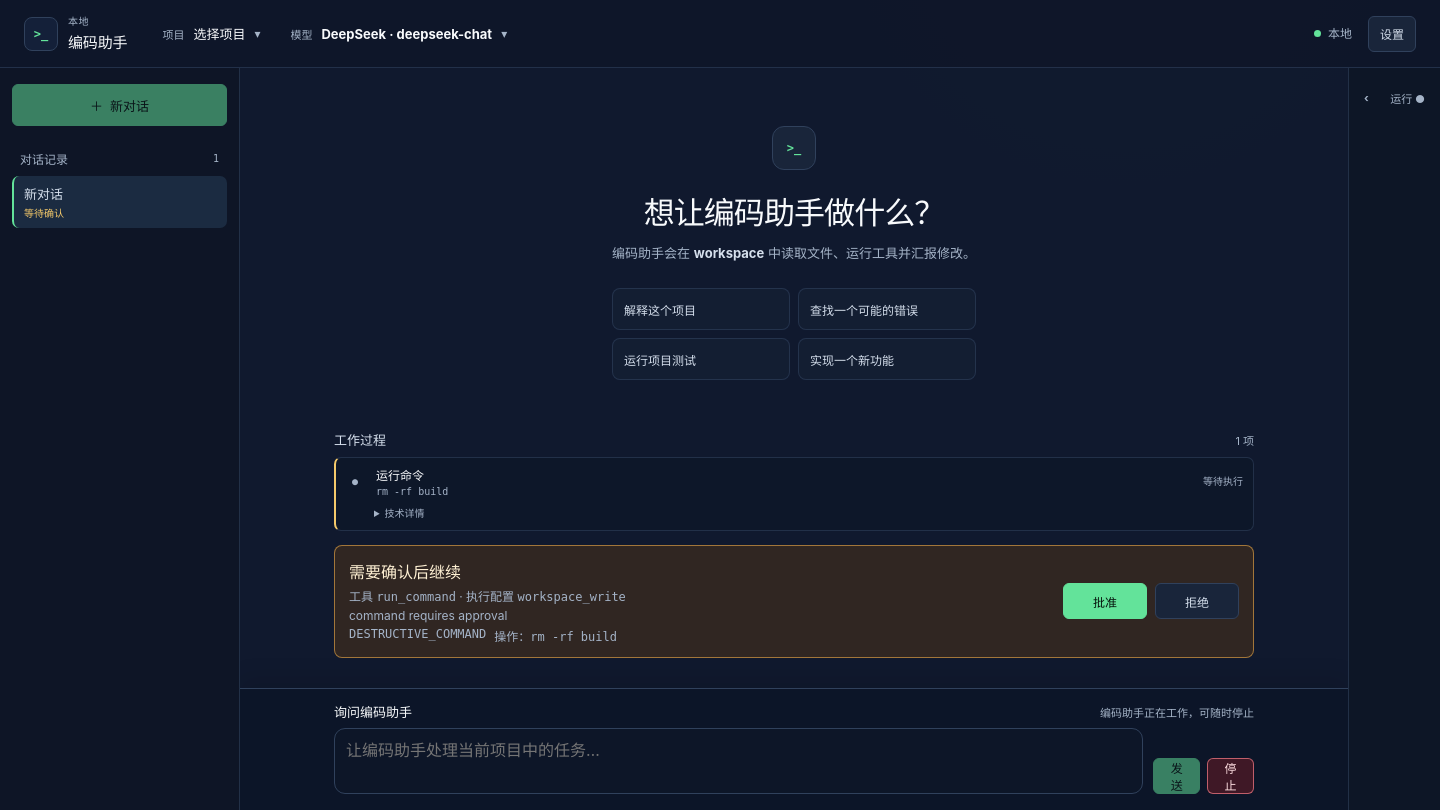
Test: allows retry when failed resolution recovery still shows the same approval
(page scrolled)
Step 1. Click the button "批准" → (1105, 601), box left=1063, top=583, right=1147, bottom=619
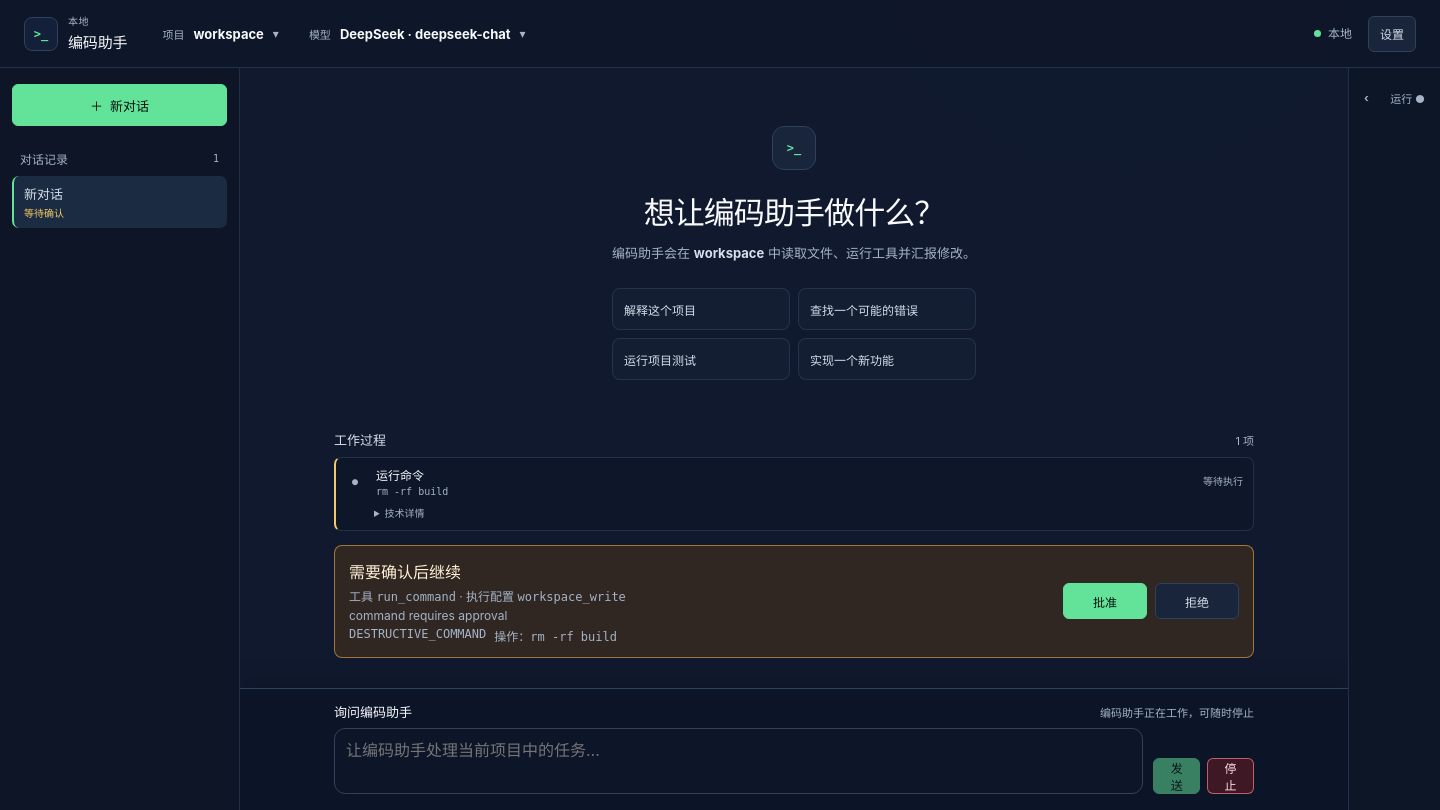
Step 2. Click the button "批准" → (1105, 601), box left=1063, top=583, right=1147, bottom=619
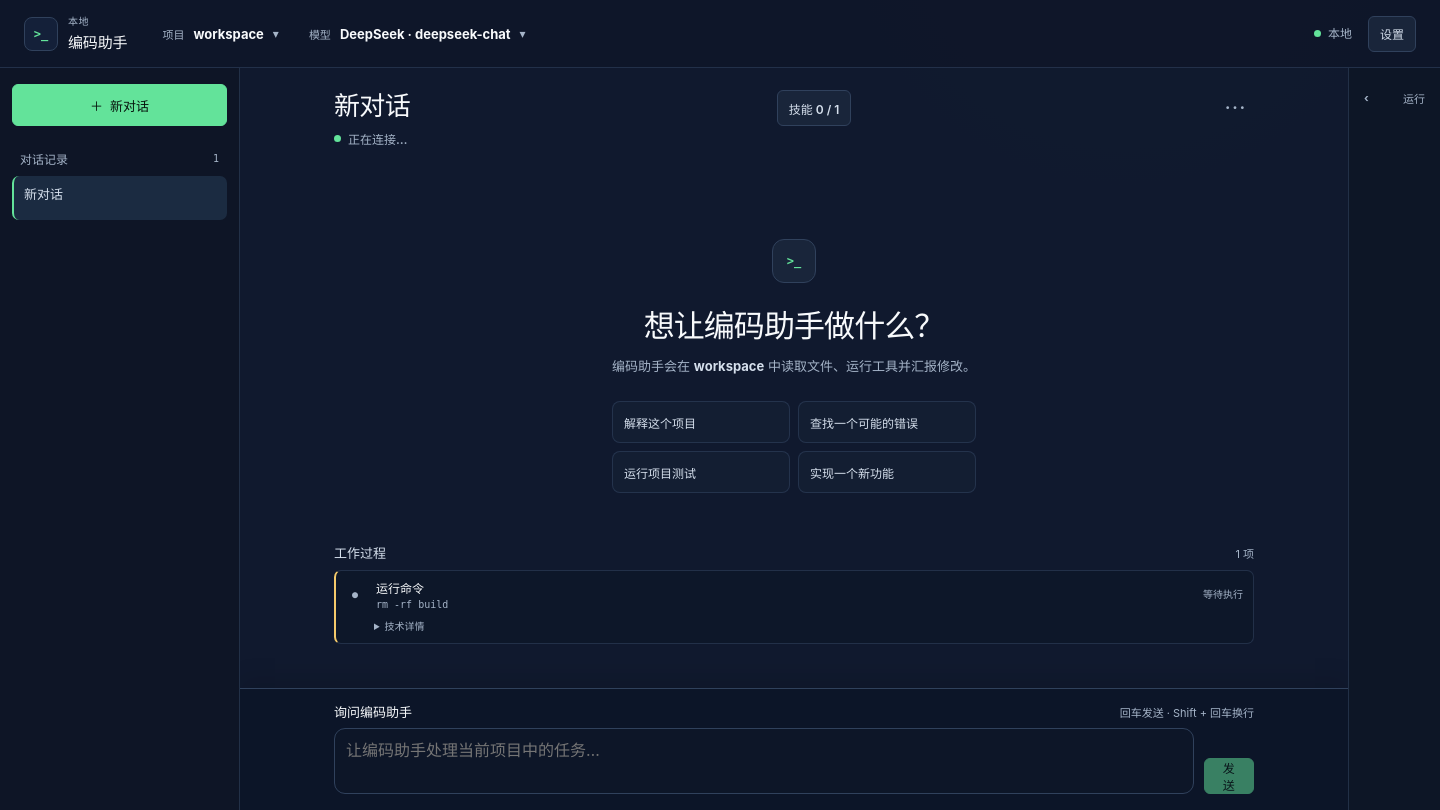
expect the button "批准" is gone: met
